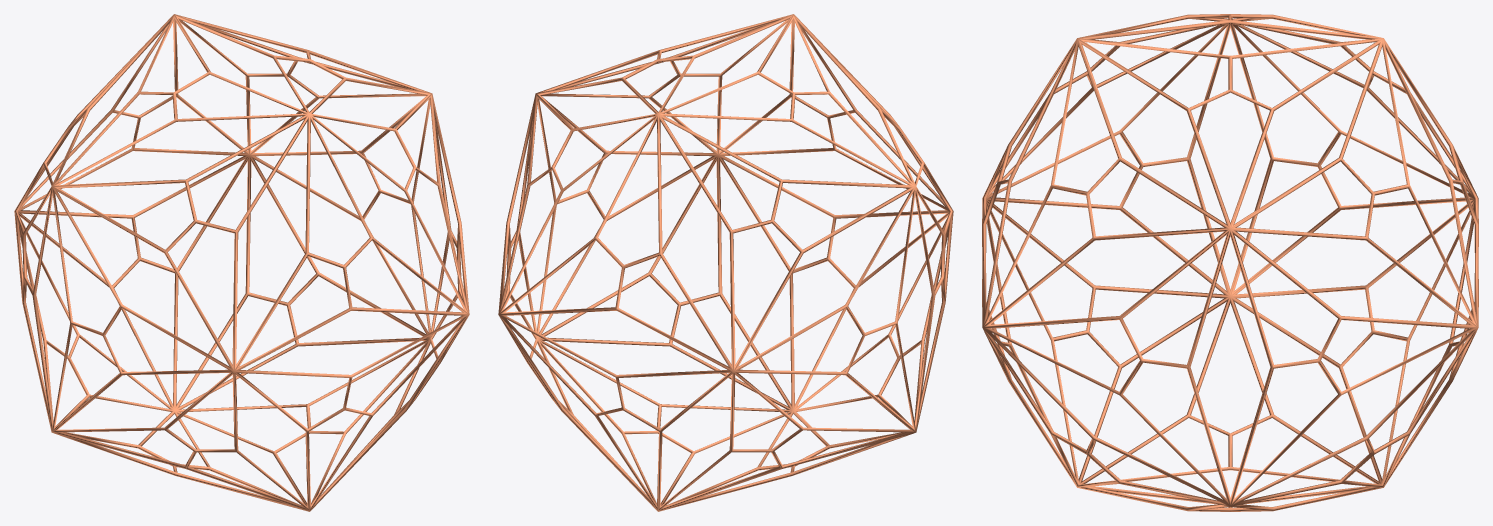
The model's file is JoinedTruncatedDodecahedron1.glb.
The picture shows the model from 3 angles, left to right: view 1: azimuth 30°, elevation 25°; view 2: azimuth 150°, elevation 25°; view 3: azimuth 270°, elevation 25°; orthographic projection. The views are drawn at different scales.
Parts seen in each view (by area): view 1: JoinedTruncatedDodecahedron; view 2: JoinedTruncatedDodecahedron; view 3: JoinedTruncatedDodecahedron.
Part boxes in pixels (x1,y1,x2,y2): JoinedTruncatedDodecahedron: [14, 14, 469, 511]; JoinedTruncatedDodecahedron: [498, 14, 953, 511]; JoinedTruncatedDodecahedron: [982, 14, 1478, 511].
Bounding box in the file's own units: 5.9 × 5.9 × 5.9.
